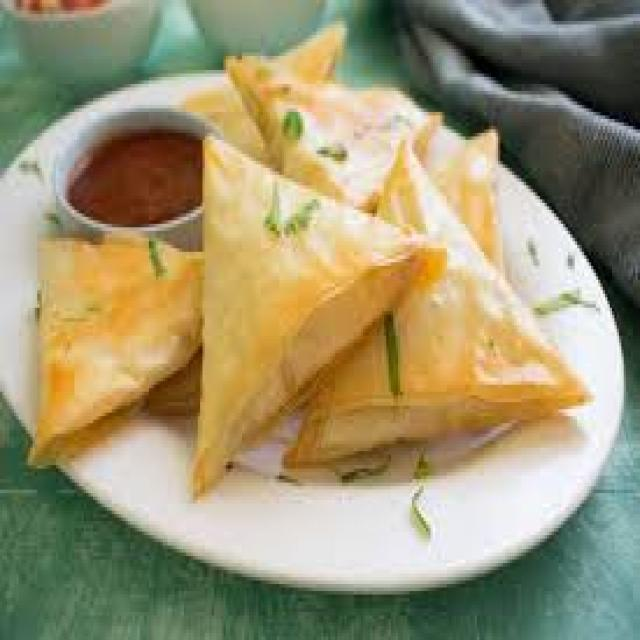SAMOSA: (286, 140, 586, 462), (198, 140, 431, 490), (37, 238, 200, 448), (379, 140, 493, 276)
